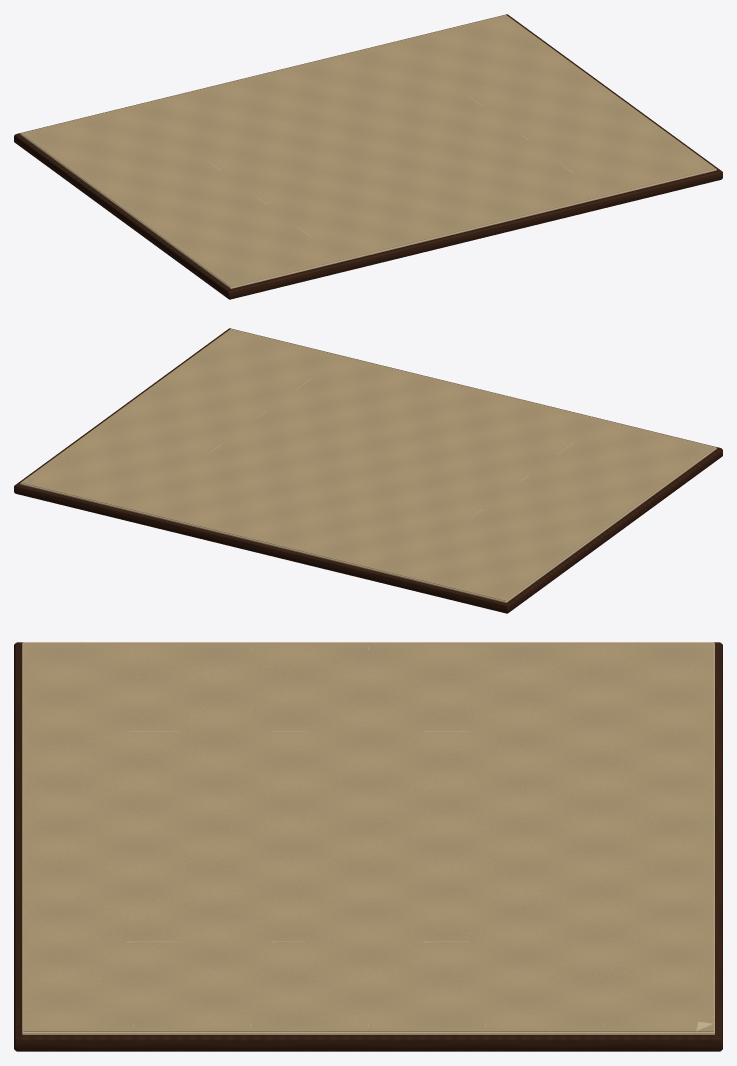
The model's file is arena_large_12x9.glb.
3 renders of one model, top to bottom at view 1: azimuth 30°, elevation 25°; view 2: azimuth 150°, elevation 25°; view 3: azimuth 270°, elevation 25°, orthographic. The views are drawn at different scales.
Parts seen in each view (by area): view 1: arena_large_12x9.002; view 2: arena_large_12x9.002; view 3: arena_large_12x9.002.
Boxes of the visible parts, x1,y1,x2,y2 form: arena_large_12x9.002: (14, 14, 722, 299); arena_large_12x9.002: (14, 328, 722, 613); arena_large_12x9.002: (14, 642, 722, 1051).
Bounding box in the file's own units: 12.24 × 0.297 × 9.24.
4 materials, 2 textured.
